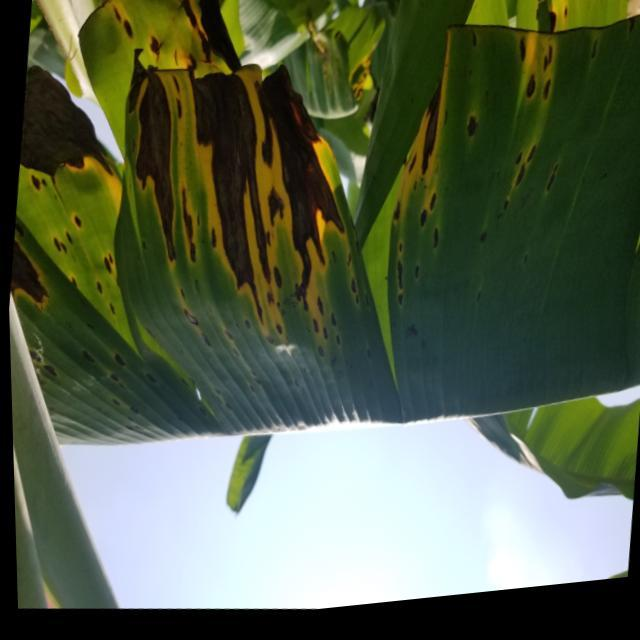Early_rust: (1, 0, 640, 436)
